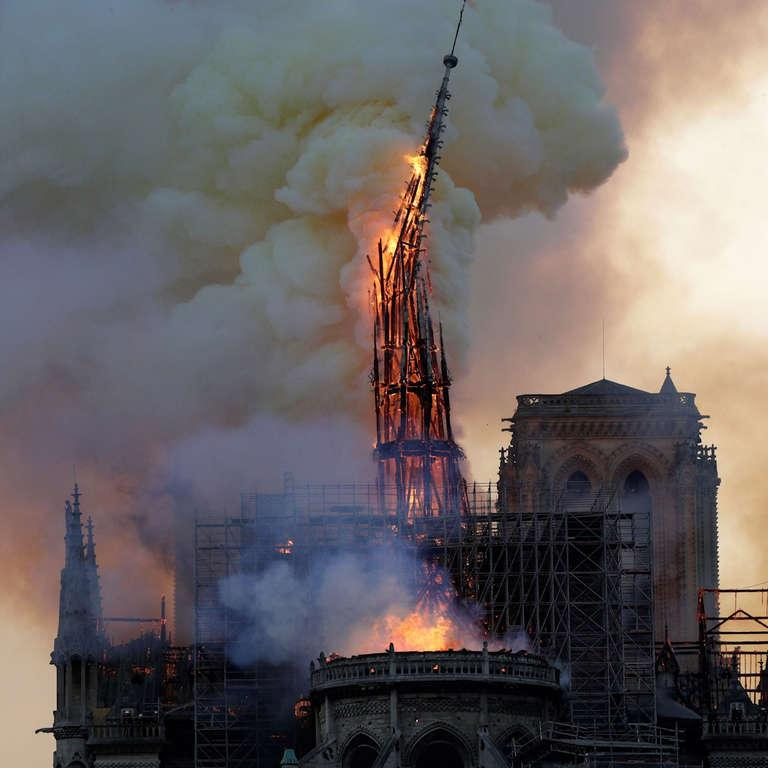Fire: (324, 105, 486, 661)
